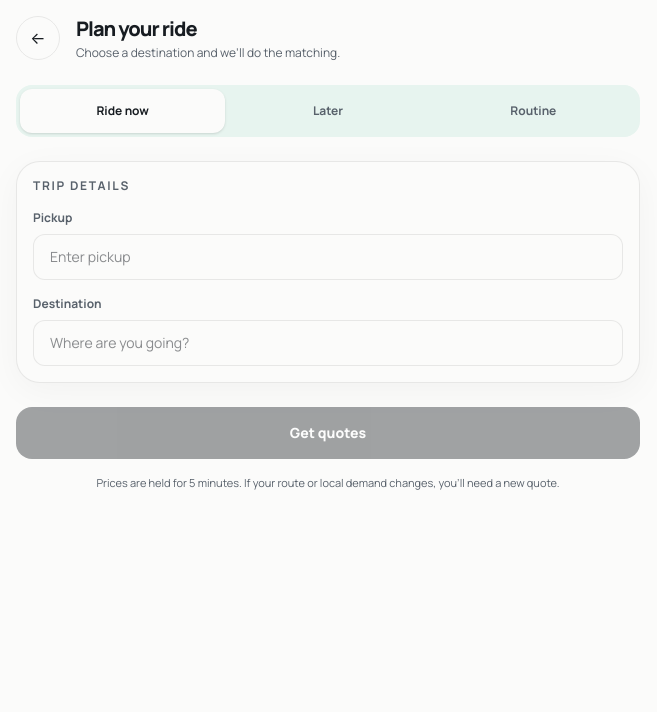
NewRide (signed in: live quotes) › discards the quotes when the destination changes
In the dropdown with placeholder "Enter pickup": (328, 257) [33,234,623,280], type "Central"
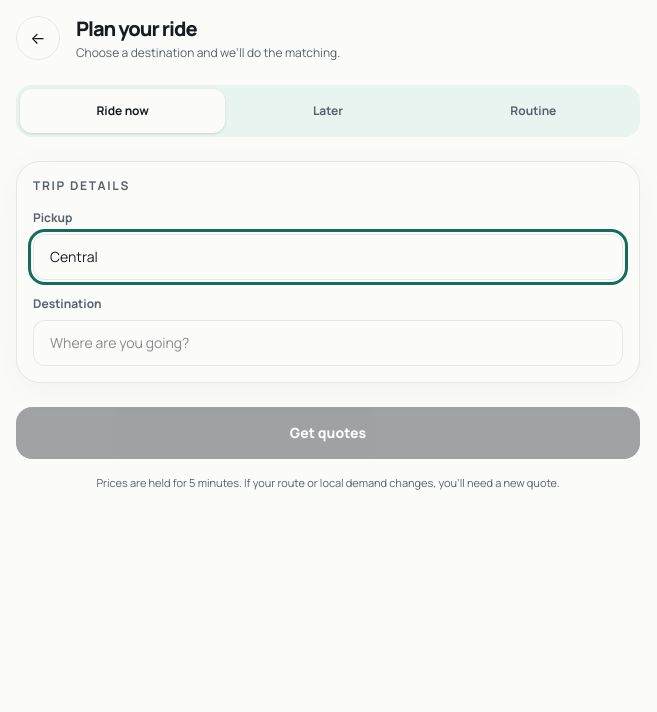
In the dropdown with placeholder "Where are you going?": (328, 343) [33,320,623,366], type "North Sydney"
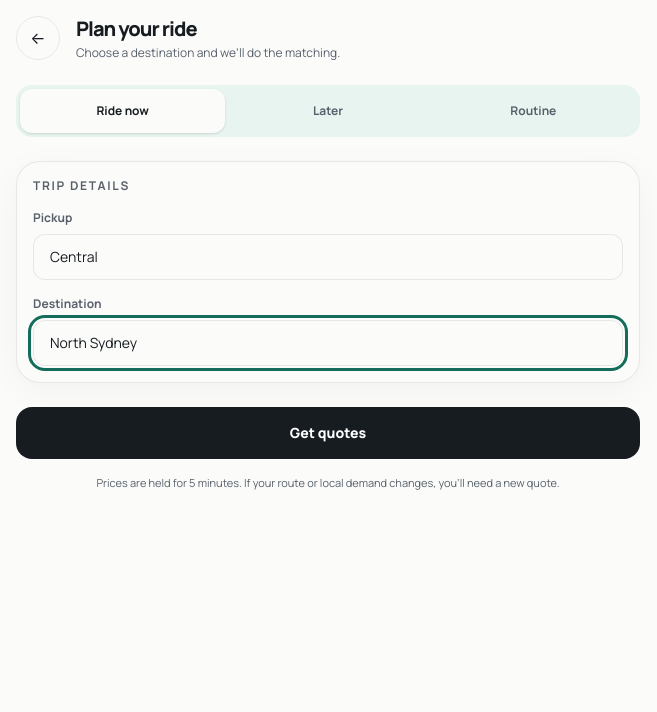
Click the button "Get quotes": click(328, 433) [16,407,640,459]
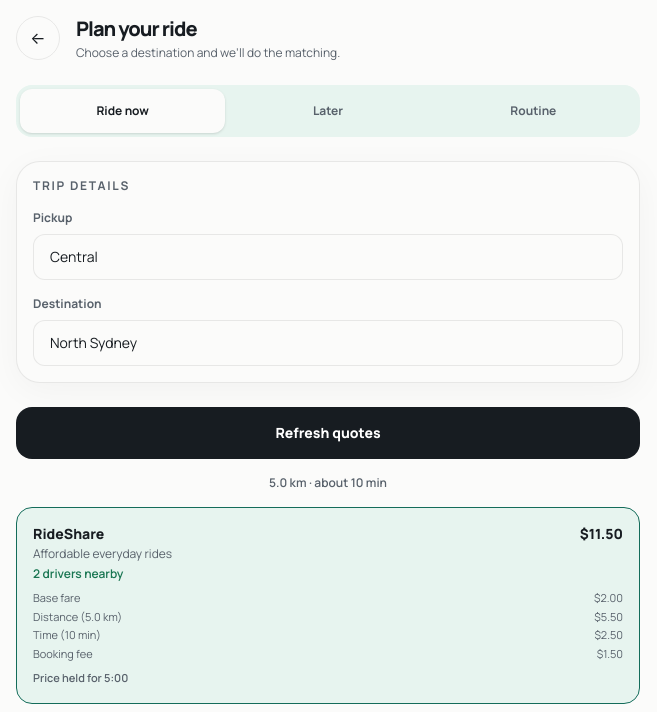
Now the radio button labelled "RideShare $11.50" is shown, box [16,507,640,704]
In the dropdown with placeholder "Where are you going?": (328, 343) [33,320,623,366], type " Station"
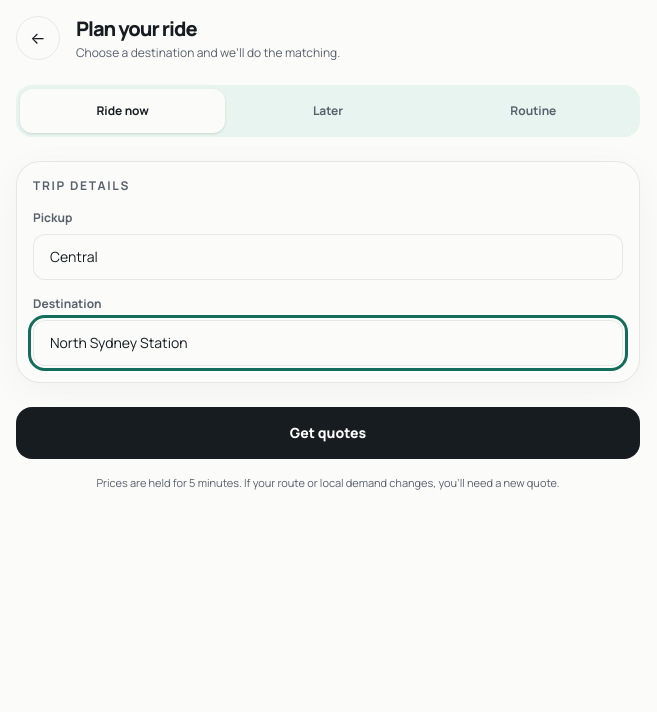
Now the radio button is gone
Now the text with test id "route-summary" is gone
